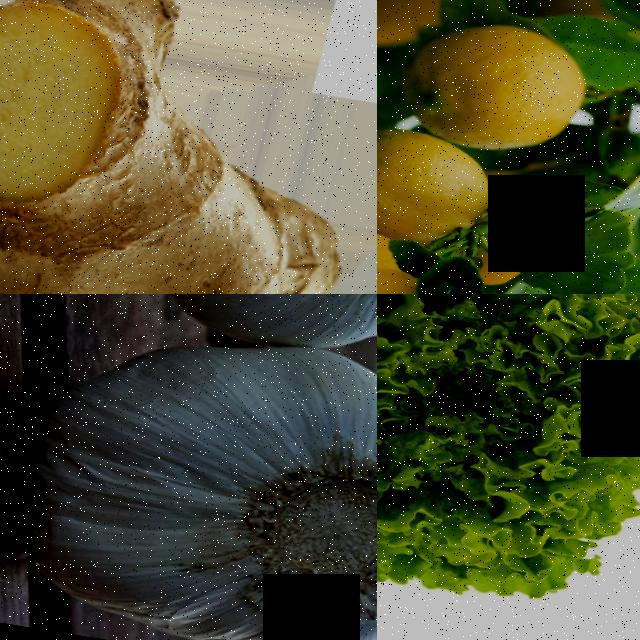garlic: (10, 308, 377, 640), (78, 294, 377, 384)
ginger: (0, 0, 377, 294)
lemon: (402, 11, 604, 155), (377, 121, 508, 244)
lettuce: (377, 294, 640, 635)
